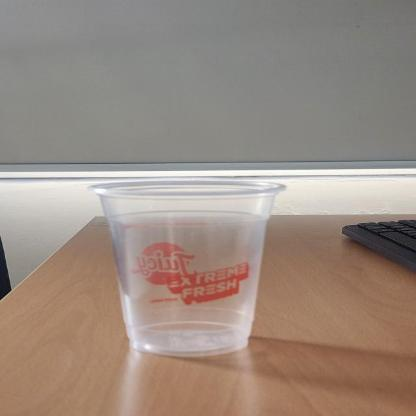Plastic Cup: (87, 178, 289, 356)
